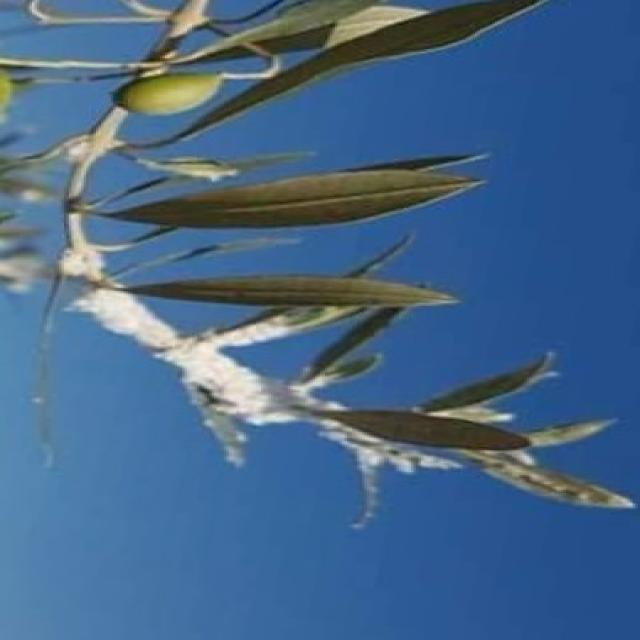Psyllid: (318, 357, 632, 508), (69, 284, 357, 424), (138, 153, 303, 181), (64, 246, 121, 286)
